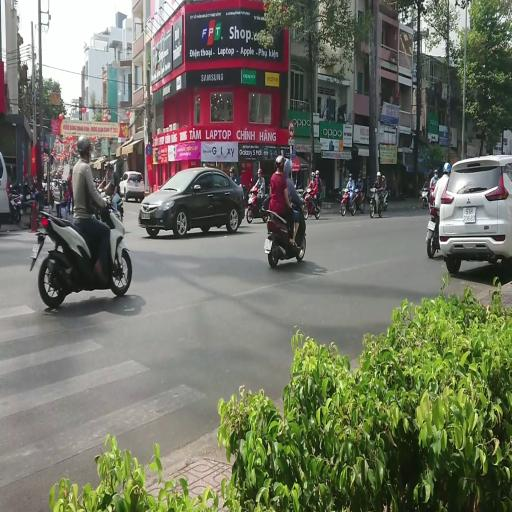bikes: (30, 189, 132, 308), (261, 194, 306, 268), (426, 162, 451, 258), (8, 180, 44, 224), (98, 190, 124, 224), (246, 183, 268, 223), (426, 203, 441, 258), (421, 166, 439, 209), (8, 181, 23, 224), (302, 189, 320, 219), (369, 186, 385, 217), (340, 186, 356, 216), (294, 186, 308, 218), (350, 187, 365, 215), (109, 194, 124, 222), (420, 184, 430, 209), (381, 188, 390, 210), (92, 176, 104, 191)
helmet: (77, 136, 91, 152), (275, 155, 286, 171), (283, 159, 291, 176), (443, 162, 451, 174), (104, 161, 110, 169), (109, 163, 114, 171), (257, 169, 262, 175), (376, 171, 380, 178), (311, 172, 315, 178), (434, 169, 438, 175), (230, 166, 234, 172), (358, 173, 362, 179), (381, 174, 385, 180), (426, 173, 430, 179), (315, 170, 319, 175), (344, 188, 347, 193), (349, 173, 352, 177)
